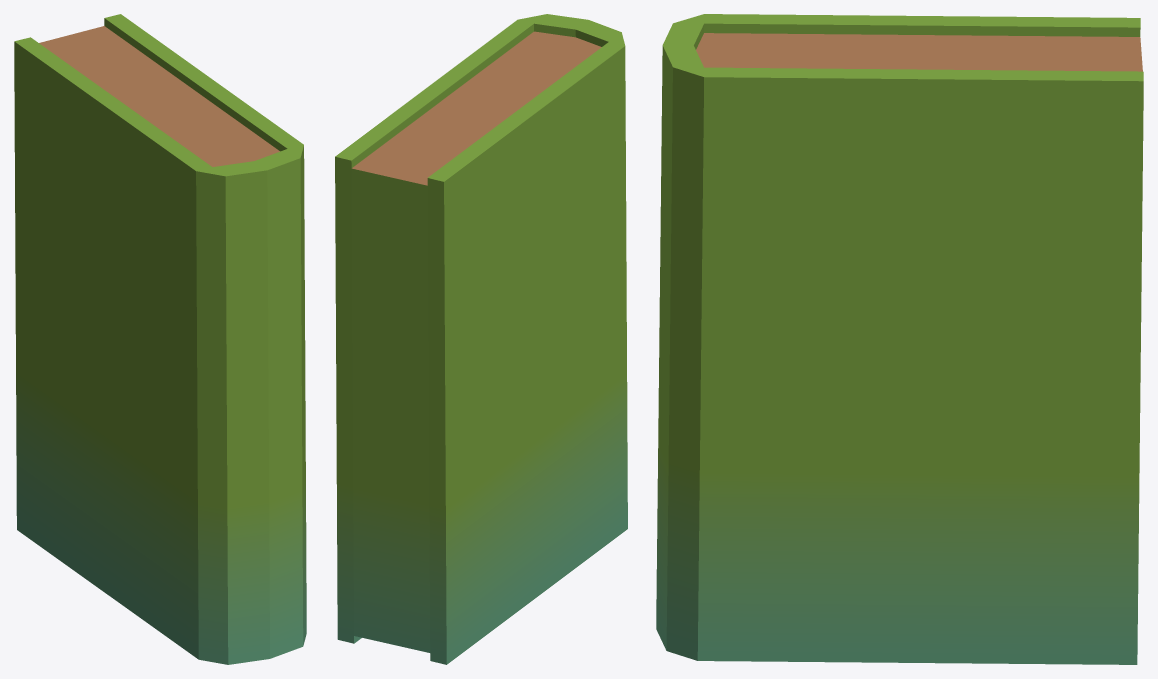
File: Libro_1.fbx
The picture shows the model from 3 angles, left to right: view 1: azimuth 30°, elevation 25°; view 2: azimuth 150°, elevation 25°; view 3: azimuth 270°, elevation 25°; orthographic projection. The views are drawn at different scales.
Visible parts, largest first — view 1: Cube.022; view 2: Cube.022; view 3: Cube.022.
Part boxes in pixels (x1=…): Cube.022: x1=14, y1=14, x2=306, y2=664; Cube.022: x1=335, y1=14, x2=627, y2=664; Cube.022: x1=656, y1=14, x2=1143, y2=664.
Size of the model in its own units: 8.4 by 36.43 by 27.37.
